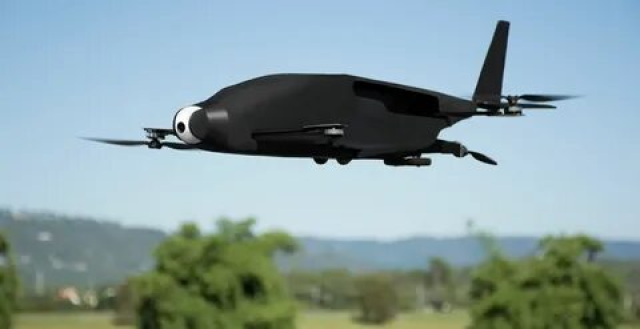military drone: (77, 18, 589, 167)
